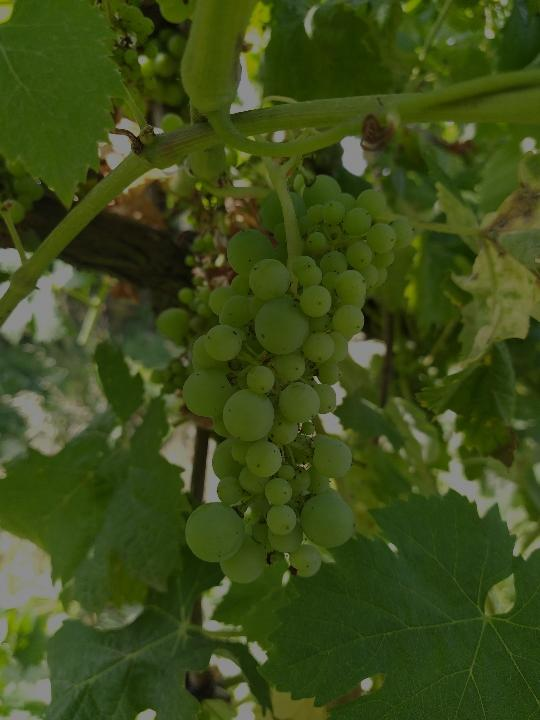grape: (177, 173, 418, 587)
